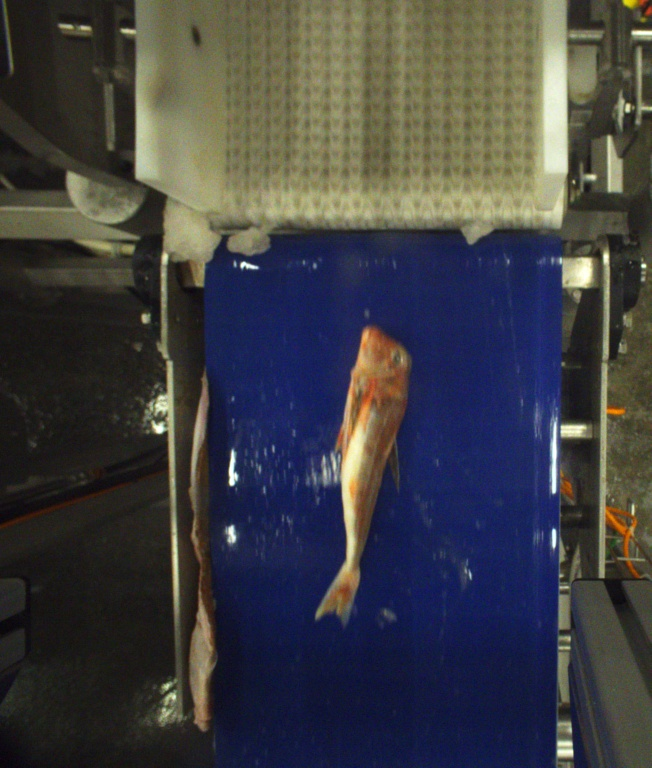GUU: (314, 326, 412, 628)
